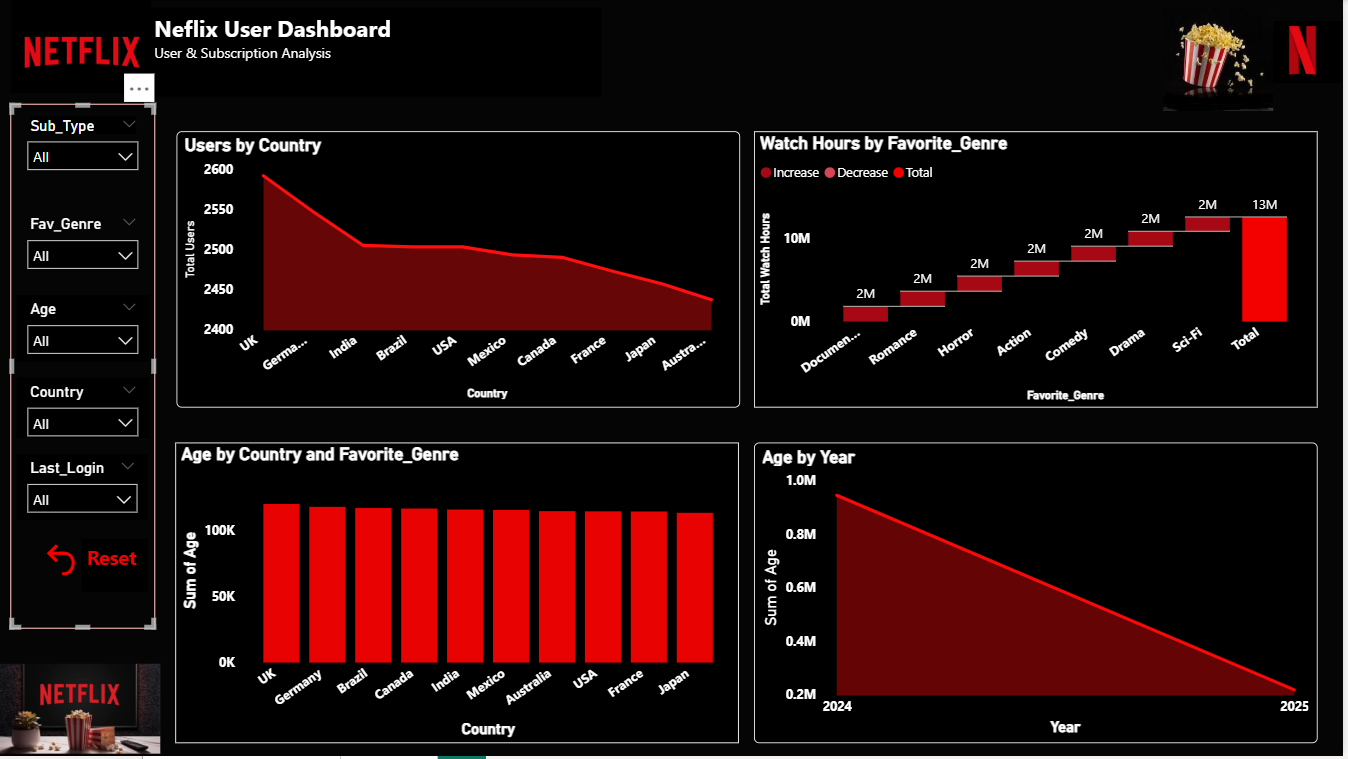

This screenshot's page, from the dashboard's own definition file:
{"tool":"powerbi","page":{"name":"Page 2","canvas":[1280,720],"ordinal":1},"visuals":[{"type":"waterfallChart","title":" Watch Hours by Favorite_Genre","fields":{"Y":["Subscription.Total Watch Hours"],"Category":["netflix_users.Favorite_Genre"]},"box":[719,124.9,536.5,263.5],"z":0},{"type":"stackedAreaChart","title":"Users by Country","fields":{"Category":["netflix_users.Country"],"Y":["Subscription.Total Users"]},"box":[168.8,124.9,536.5,263.5],"z":1000},{"type":"image","box":[2.7,0,150.9,89.2],"z":2000},{"type":"textbox","box":[142.7,6.9,430.9,85.1],"z":3000},{"type":"image","box":[1200.7,0,79.6,98.8],"z":4000},{"type":"image","box":[1104.6,6.9,112.5,98.8],"z":5000},{"type":"shape","box":[8.2,98.8,138.6,481.6],"z":6000},{"type":"actionButton","box":[39.8,513.2,100.2,39.8],"z":7000},{"type":"textbox","box":[78.2,513.2,63.1,50.8],"z":8000},{"type":"slicer","fields":{"Values":["Subscription.Subscription_Type"]},"box":[16.5,105.7,126.2,63.1],"z":9000},{"type":"slicer","fields":{"Values":["netflix_users.Favorite_Genre"]},"box":[16.5,200.3,126.2,63.1],"z":10000},{"type":"slicer","fields":{"Values":["netflix_users.Age"]},"box":[16.5,281.3,126.2,63.1],"z":11000},{"type":"slicer","fields":{"Values":["netflix_users.Country"]},"box":[16.5,359.5,126.2,57.6],"z":12000},{"type":"slicer","fields":{"Values":["netflix_users.Last_Login"]},"box":[16.5,432.2,124.9,63.1],"z":13000},{"type":"areaChart","title":" Age by Year","fields":{"Category":["netflix_users.Last_Login.Variation.Date Hierarchy.Year"],"Y":["Sum(netflix_users.Age)"]},"box":[719,421.3,536.5,286.8],"z":14000},{"type":"clusteredColumnChart","title":" Age by Country and Favorite_Genre","fields":{"Category":["netflix_users.Country"],"Y":["Sum(netflix_users.Age)"]},"box":[167.4,421.3,536.5,286.8],"z":15000}]}

Visuals, with their boxes in screenshot pixels (x1, y1, x2, y2), scaled from the page's 1280x720 canvas onto the 1348x759 screenshot:
" Watch Hours by Favorite_Genre" waterfallChart: bbox=[757, 132, 1322, 409]
"Users by Country" stackedAreaChart: bbox=[178, 132, 743, 409]
image: bbox=[3, 0, 162, 94]
textbox: bbox=[150, 7, 604, 97]
image: bbox=[1264, 0, 1347, 104]
image: bbox=[1163, 7, 1282, 111]
shape: bbox=[9, 104, 155, 612]
actionButton: bbox=[42, 541, 147, 583]
textbox: bbox=[82, 541, 149, 595]
slicer - Subscription.Subscription_Type: bbox=[17, 111, 150, 178]
slicer - netflix_users.Favorite_Genre: bbox=[17, 211, 150, 278]
slicer - netflix_users.Age: bbox=[17, 297, 150, 363]
slicer - netflix_users.Country: bbox=[17, 379, 150, 440]
slicer - netflix_users.Last_Login: bbox=[17, 456, 149, 522]
" Age by Year" areaChart: bbox=[757, 444, 1322, 746]
" Age by Country and Favorite_Genre" clusteredColumnChart: bbox=[176, 444, 741, 746]
